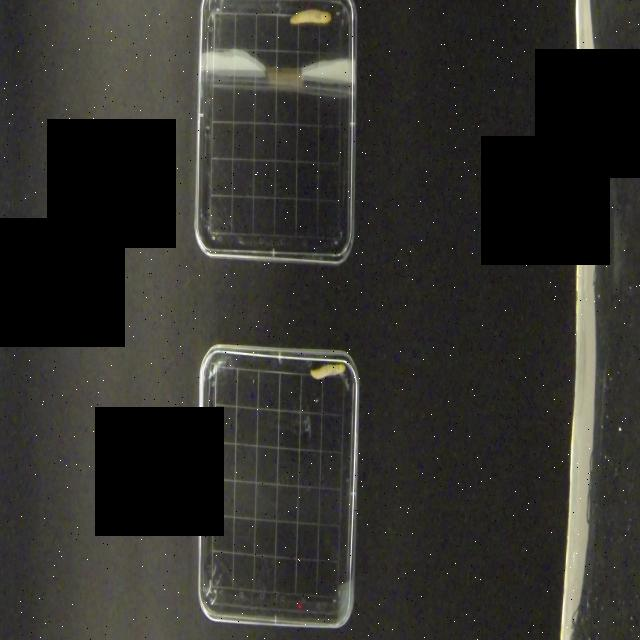larva: (312, 358, 345, 384), (290, 8, 332, 26)
